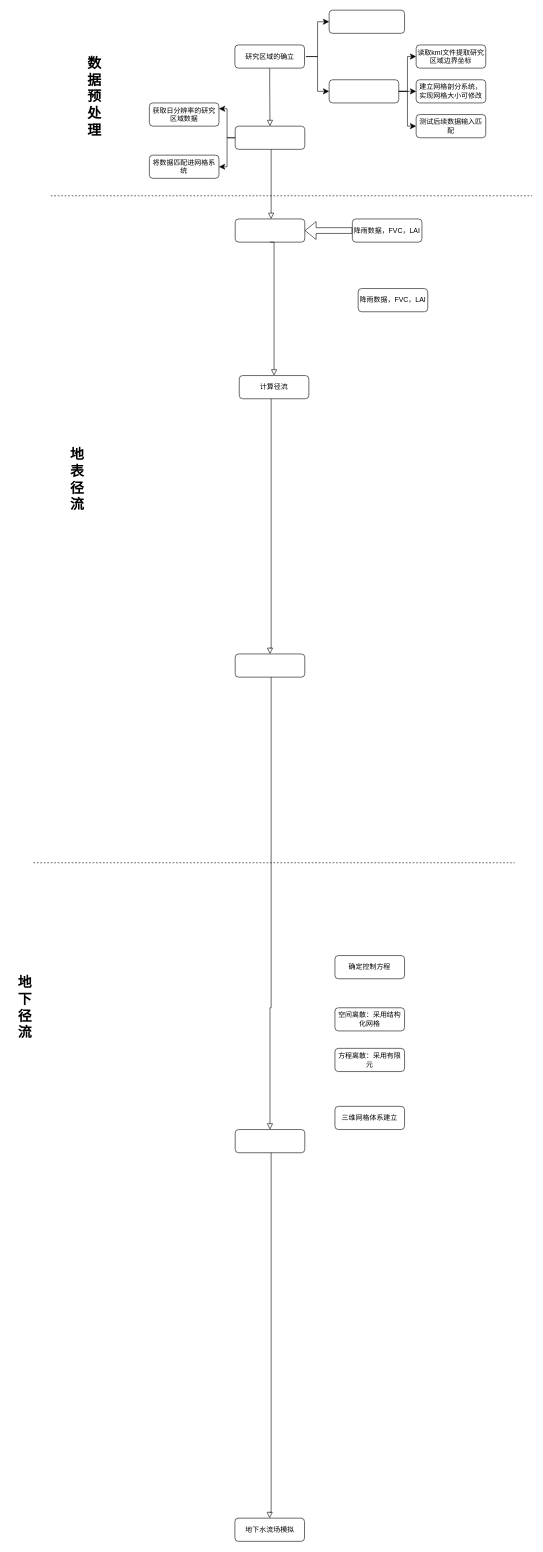
Some shapes in this 543 by 1552 pixel diagram are drawn without their labels. The shapes that lost their labels are listed below. From the top down, each one's centre as x and y in pixels, then its label:
At [367,21]: "在Google Earth勾画出研究区域并生成kml文件".
At [364,91]: "网格剖分并建立网格信息匹配系统".
At [270,137]: "气象、卫星数据预处理".
At [270,230]: "计算截流".
At [270,665]: "计算蒸腾蒸发".
At [270,1141]: "Hydrus-1D模拟".
